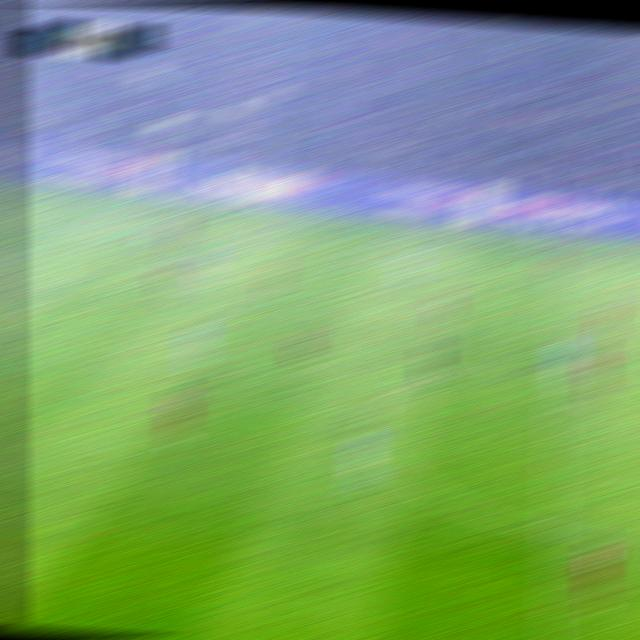bigarea_top_inner: (4, 234, 42, 261)
halfcircle_bottom: (530, 513, 574, 545)
halfcircle_top: (540, 360, 572, 383)
midline_top_intersection: (545, 237, 579, 256)
